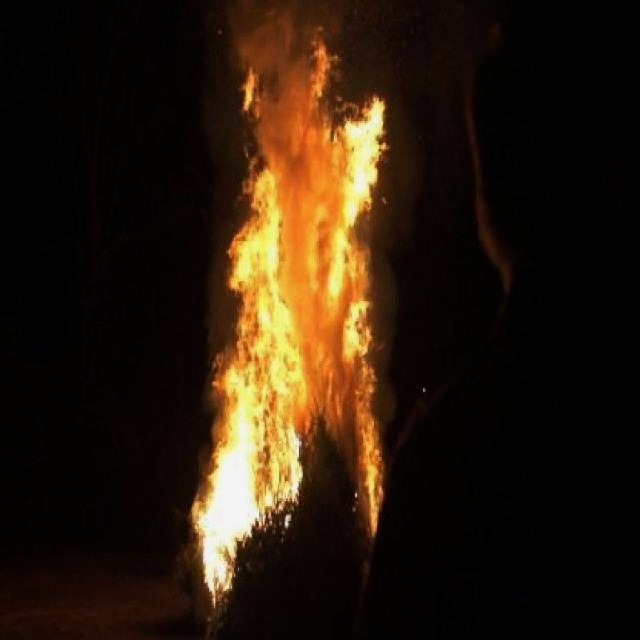fire: (148, 2, 425, 580)
